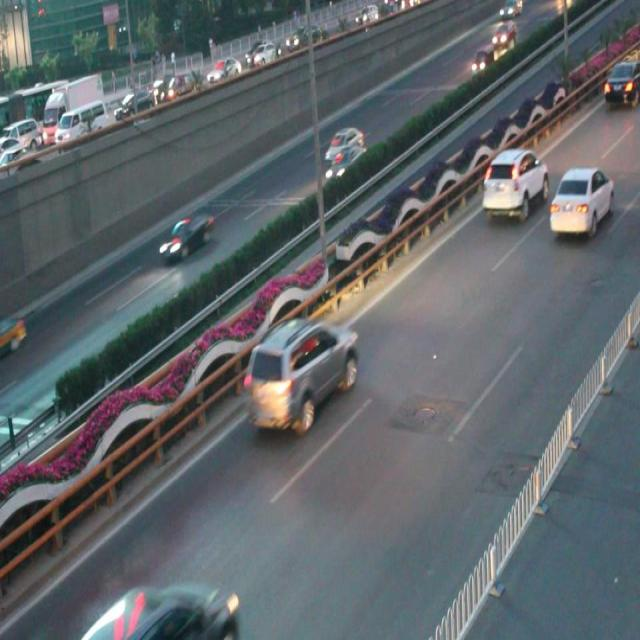car: (243, 318, 359, 436), (548, 163, 615, 240), (482, 149, 548, 220), (156, 213, 214, 264), (323, 146, 368, 182), (325, 126, 365, 162)
